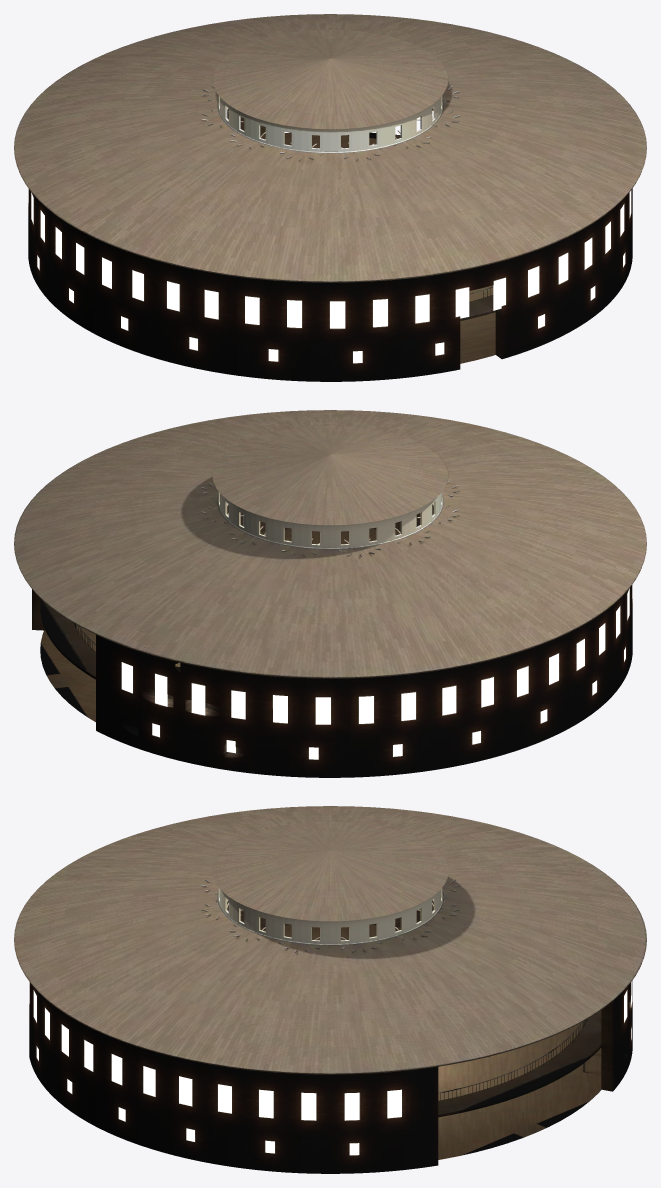
File: castle_interior.glb
3 renders of one model, top to bottom at view 1: azimuth 30°, elevation 25°; view 2: azimuth 150°, elevation 25°; view 3: azimuth 270°, elevation 25°, orthographic.
Visible parts, largest first — view 1: dome, wall, lantern, drum, floor, columns; view 2: dome, wall, lantern, drum, floor, gallery, columns; view 3: dome, wall, lantern, floor, drum, gallery, columns, gallery_iron.
Part boxes in pixels (bbox=[...]): dome: bbox=[14, 14, 646, 282]; wall: bbox=[28, 110, 632, 381]; lantern: bbox=[212, 29, 448, 129]; drum: bbox=[218, 95, 442, 151]; floor: bbox=[260, 132, 495, 363]; columns: bbox=[201, 85, 459, 160]; dome: bbox=[14, 410, 646, 678]; wall: bbox=[32, 506, 632, 777]; lantern: bbox=[212, 425, 448, 525]; drum: bbox=[218, 491, 442, 547]; floor: bbox=[40, 529, 400, 747]; gallery: bbox=[40, 505, 433, 707]; columns: bbox=[201, 481, 459, 556]; dome: bbox=[14, 806, 646, 1074]; wall: bbox=[29, 902, 632, 1173]; lantern: bbox=[212, 821, 448, 921]; floor: bbox=[260, 925, 601, 1159]; drum: bbox=[218, 887, 442, 943]; gallery: bbox=[227, 901, 601, 1117]; columns: bbox=[201, 879, 459, 952]; gallery_iron: bbox=[228, 906, 587, 1100].
Bounding box in the file's own units: 71.2 × 24.28 × 71.2.
11 materials, 10 textured.
